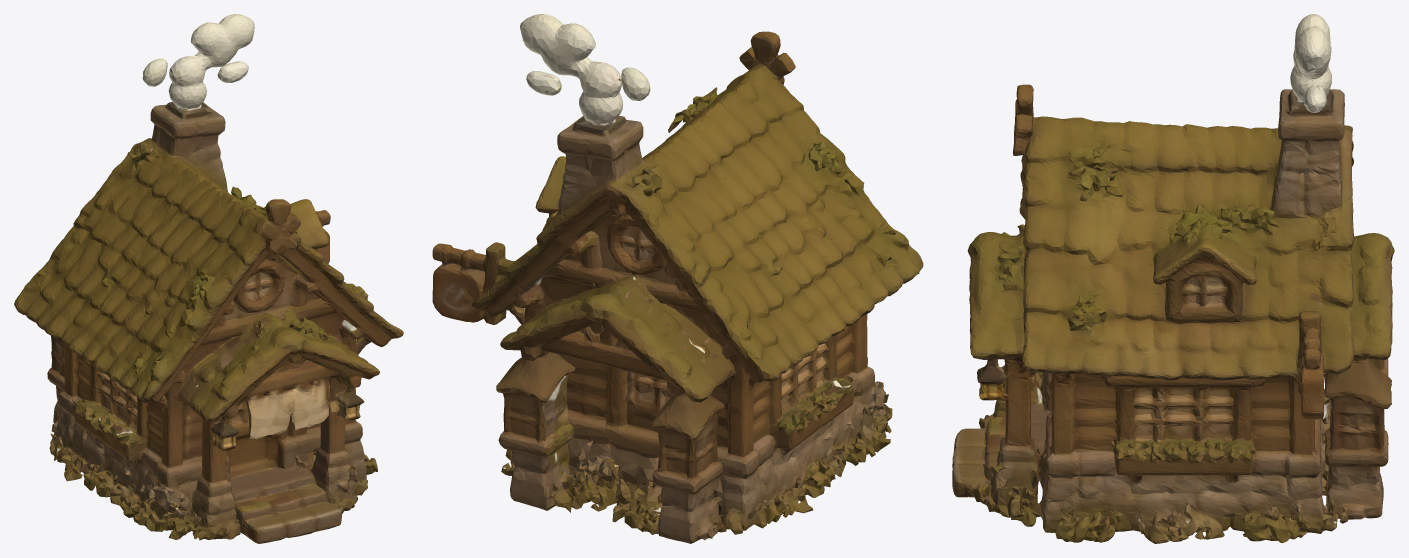
The model's file is wc-bathhouse-paint.glb.
The picture shows the model from 3 angles, left to right: view 1: azimuth 30°, elevation 25°; view 2: azimuth 150°, elevation 25°; view 3: azimuth 270°, elevation 25°; orthographic projection. The views are drawn at different scales.
Parts seen in each view (by area): view 1: geometry_0; view 2: geometry_0; view 3: geometry_0.
Boxes of the visible parts, x1,y1,x2,y2 form: geometry_0: (14,14,403,543); geometry_0: (432,14,923,543); geometry_0: (952,14,1394,543).
Size of the model in its own units: 1.59 by 2 by 1.63.
1 material, 1 textured.
